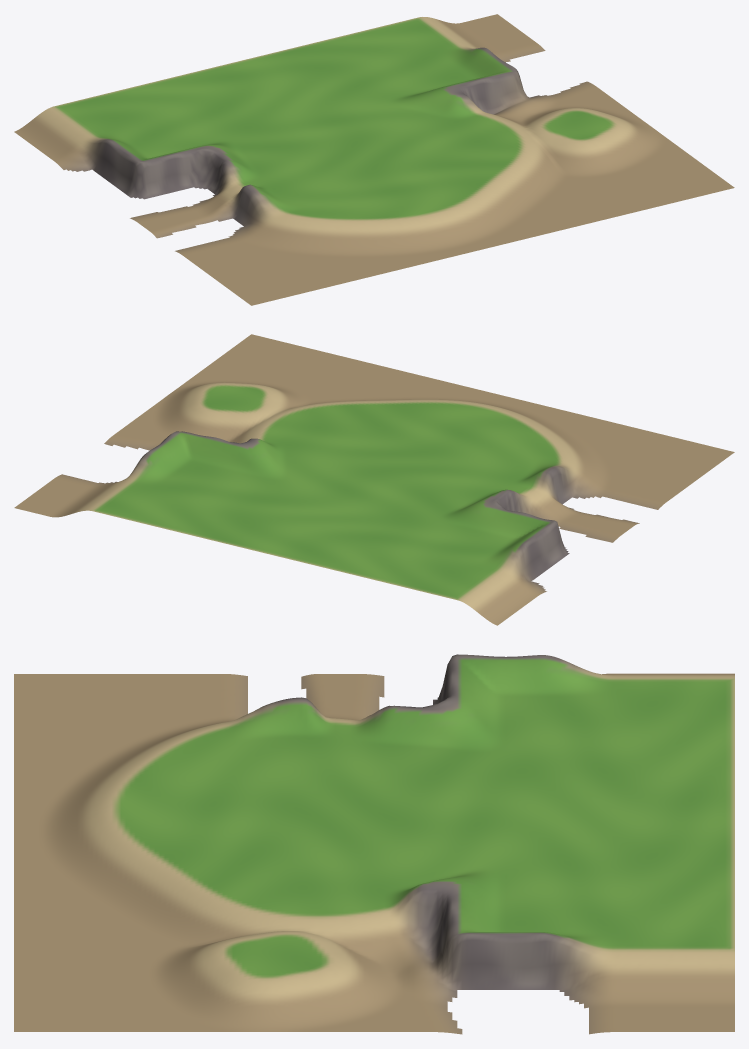
File: terrain_s2.glb
3 views of the same model, one above another, from view 1: azimuth 30°, elevation 25°; view 2: azimuth 150°, elevation 25°; view 3: azimuth 270°, elevation 25° (orthographic). The views are drawn at different scales.
Parts seen in each view (by area): view 1: Terrain; view 2: Terrain; view 3: Terrain.
Boxes of the visible parts, x1,y1,x2,y2 form: Terrain: (14, 14, 734, 305); Terrain: (14, 334, 734, 625); Terrain: (14, 654, 734, 1034).
Bounding box in the file's own units: 17.4 × 1.07 × 14.8.
